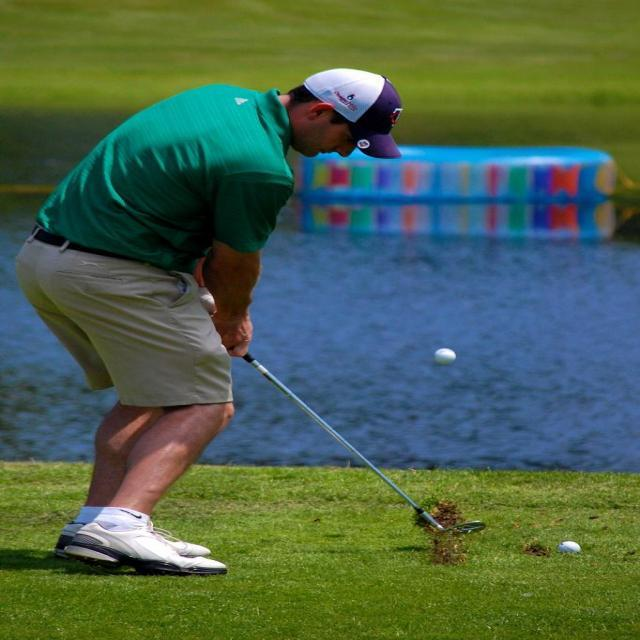ClubHead: (395, 488, 492, 554)
GolfBall: (420, 343, 466, 368), (544, 533, 592, 556)
